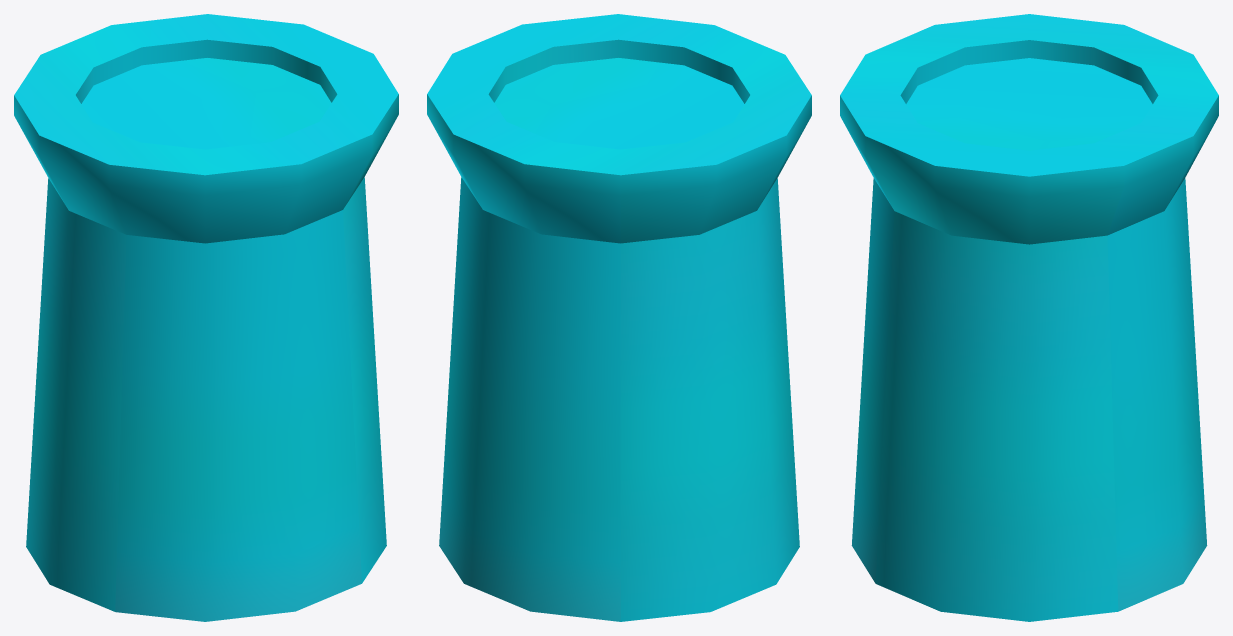
3 renders of one model, left to right at view 1: azimuth 30°, elevation 25°; view 2: azimuth 150°, elevation 25°; view 3: azimuth 270°, elevation 25°, orthographic.
Visible parts, largest first — view 1: башня2; view 2: башня2; view 3: башня2.
Boxes of the visible parts, x1,y1,x2,y2 form: башня2: [14, 14, 398, 621]; башня2: [427, 14, 811, 621]; башня2: [840, 14, 1218, 621].
Size of the model in its own units: 260 by 336 by 256.
